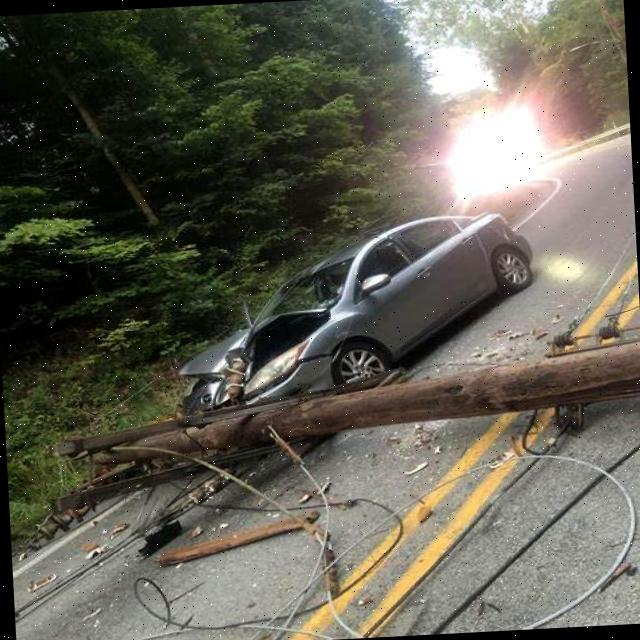Broken Pole: (63, 336, 640, 510)
